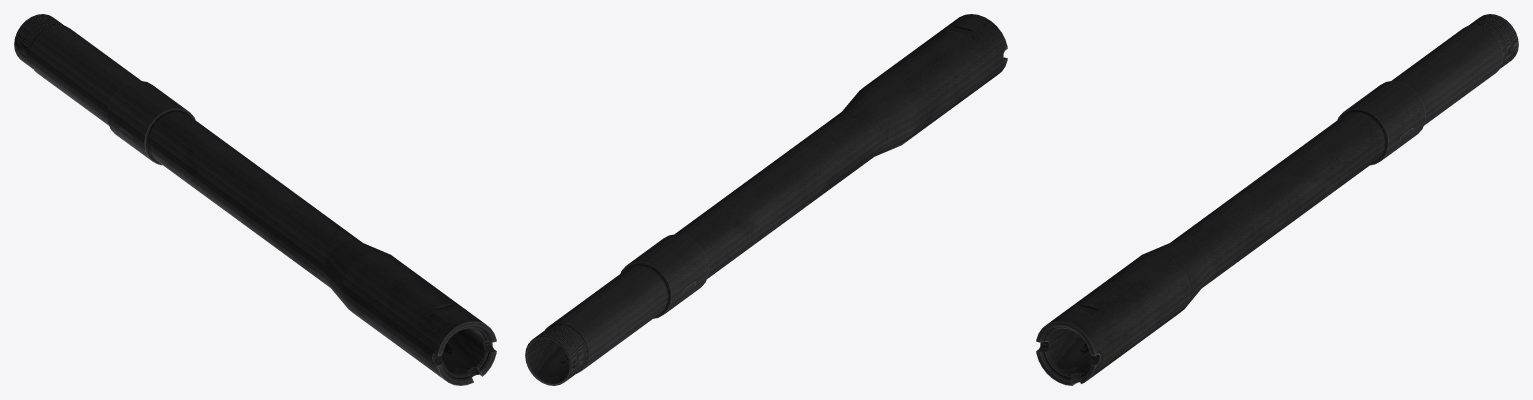
3 views of the same model, side by side, from view 1: azimuth 30°, elevation 25°; view 2: azimuth 150°, elevation 25°; view 3: azimuth 330°, elevation 25° (orthographic).
Visible parts, largest first — view 1: TW_670fd03dc424cf758f006946_PZ_Import; view 2: TW_670fd03dc424cf758f006946_PZ_Import; view 3: TW_670fd03dc424cf758f006946_PZ_Import.
Boxes of the visible parts, left/top/right/bottom form: TW_670fd03dc424cf758f006946_PZ_Import: left=14, top=14, right=496, bottom=385; TW_670fd03dc424cf758f006946_PZ_Import: left=525, top=14, right=1007, bottom=385; TW_670fd03dc424cf758f006946_PZ_Import: left=1036, top=14, right=1518, bottom=385.
Size of the model in its own units: 0.016 by 0.1975 by 0.016.
Materials: 1 (1 with a texture image).
